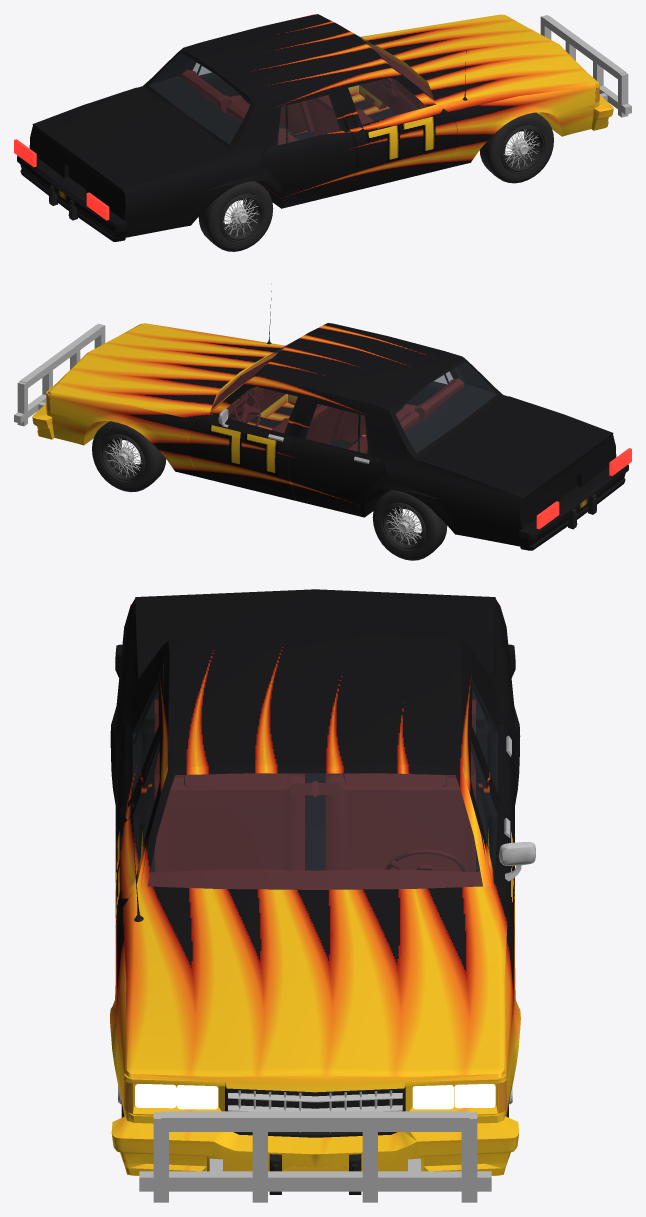
The model's file is bulldog.glb.
The picture shows the model from 3 angles, top to bottom: view 1: azimuth 30°, elevation 25°; view 2: azimuth 150°, elevation 25°; view 3: azimuth 270°, elevation 25°; orthographic projection. The views are drawn at different scales.
Parts seen in each view (by area): view 1: body, wheel_RR, wheel_FR; view 2: body, wheel_RL, wheel_FL; view 3: body.
Boxes of the visible parts, x1,y1,x2,y2 form: body: (14,14,631,241); wheel_RR: (198,181,273,251); wheel_FR: (479,112,553,183); body: (14,291,631,550); wheel_RL: (372,489,447,560); wheel_FL: (92,421,166,492); body: (110,589,535,1202).
Bounding box in the file's own units: 5.54 × 1.57 × 1.94.
Materials: 9 (1 with a texture image).
